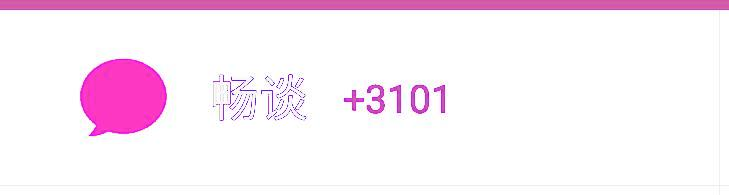CheckedTextView: (1, 1, 728, 194)
